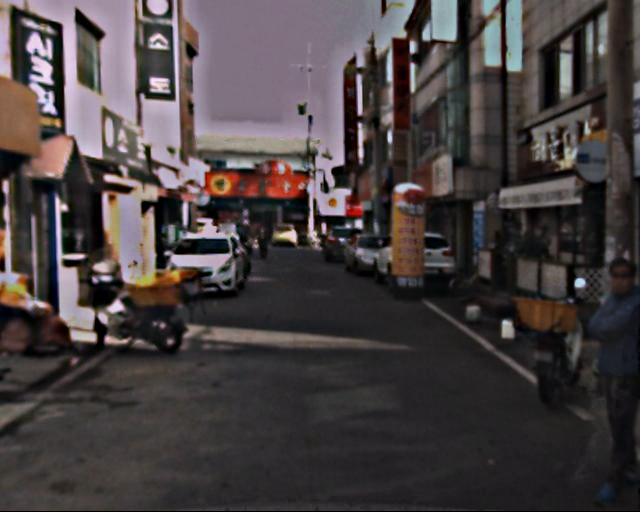person: (555, 260, 640, 496), (255, 220, 274, 261)
